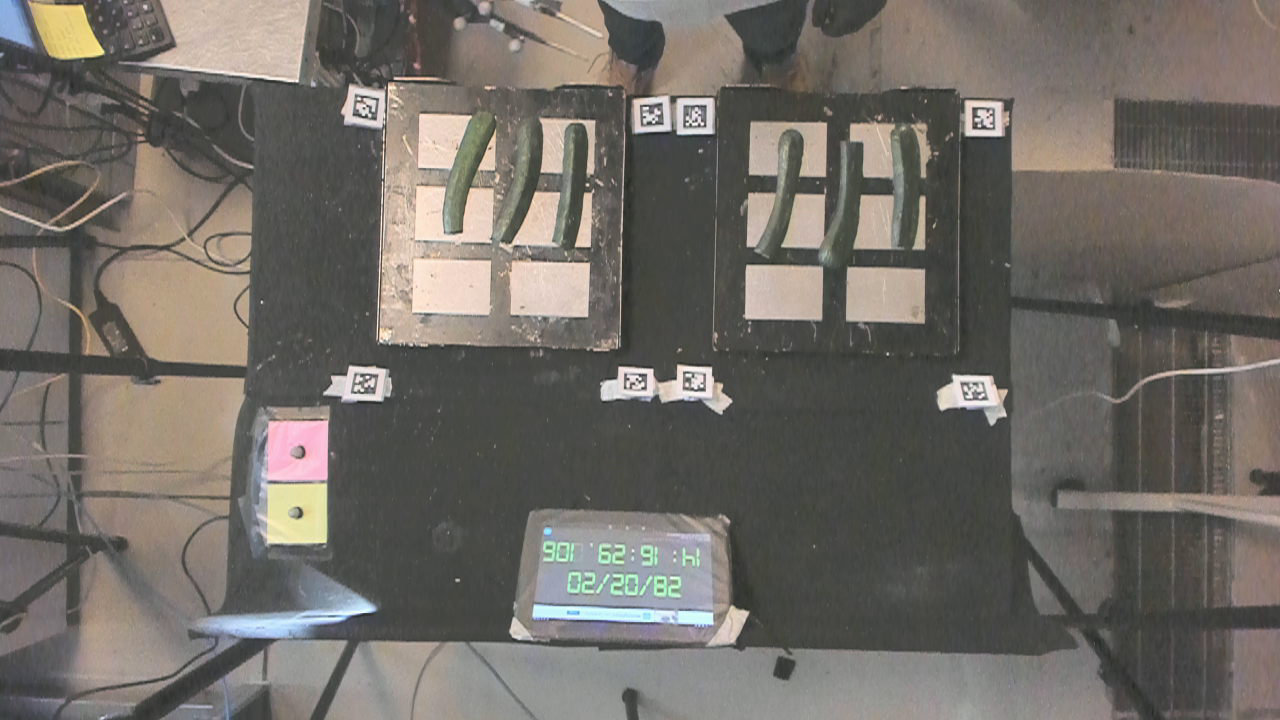marker: (267, 420, 329, 480)
zucchini: (752, 124, 803, 271), (440, 106, 496, 232), (498, 110, 545, 245), (824, 134, 867, 281), (887, 106, 920, 258), (559, 117, 594, 253)
